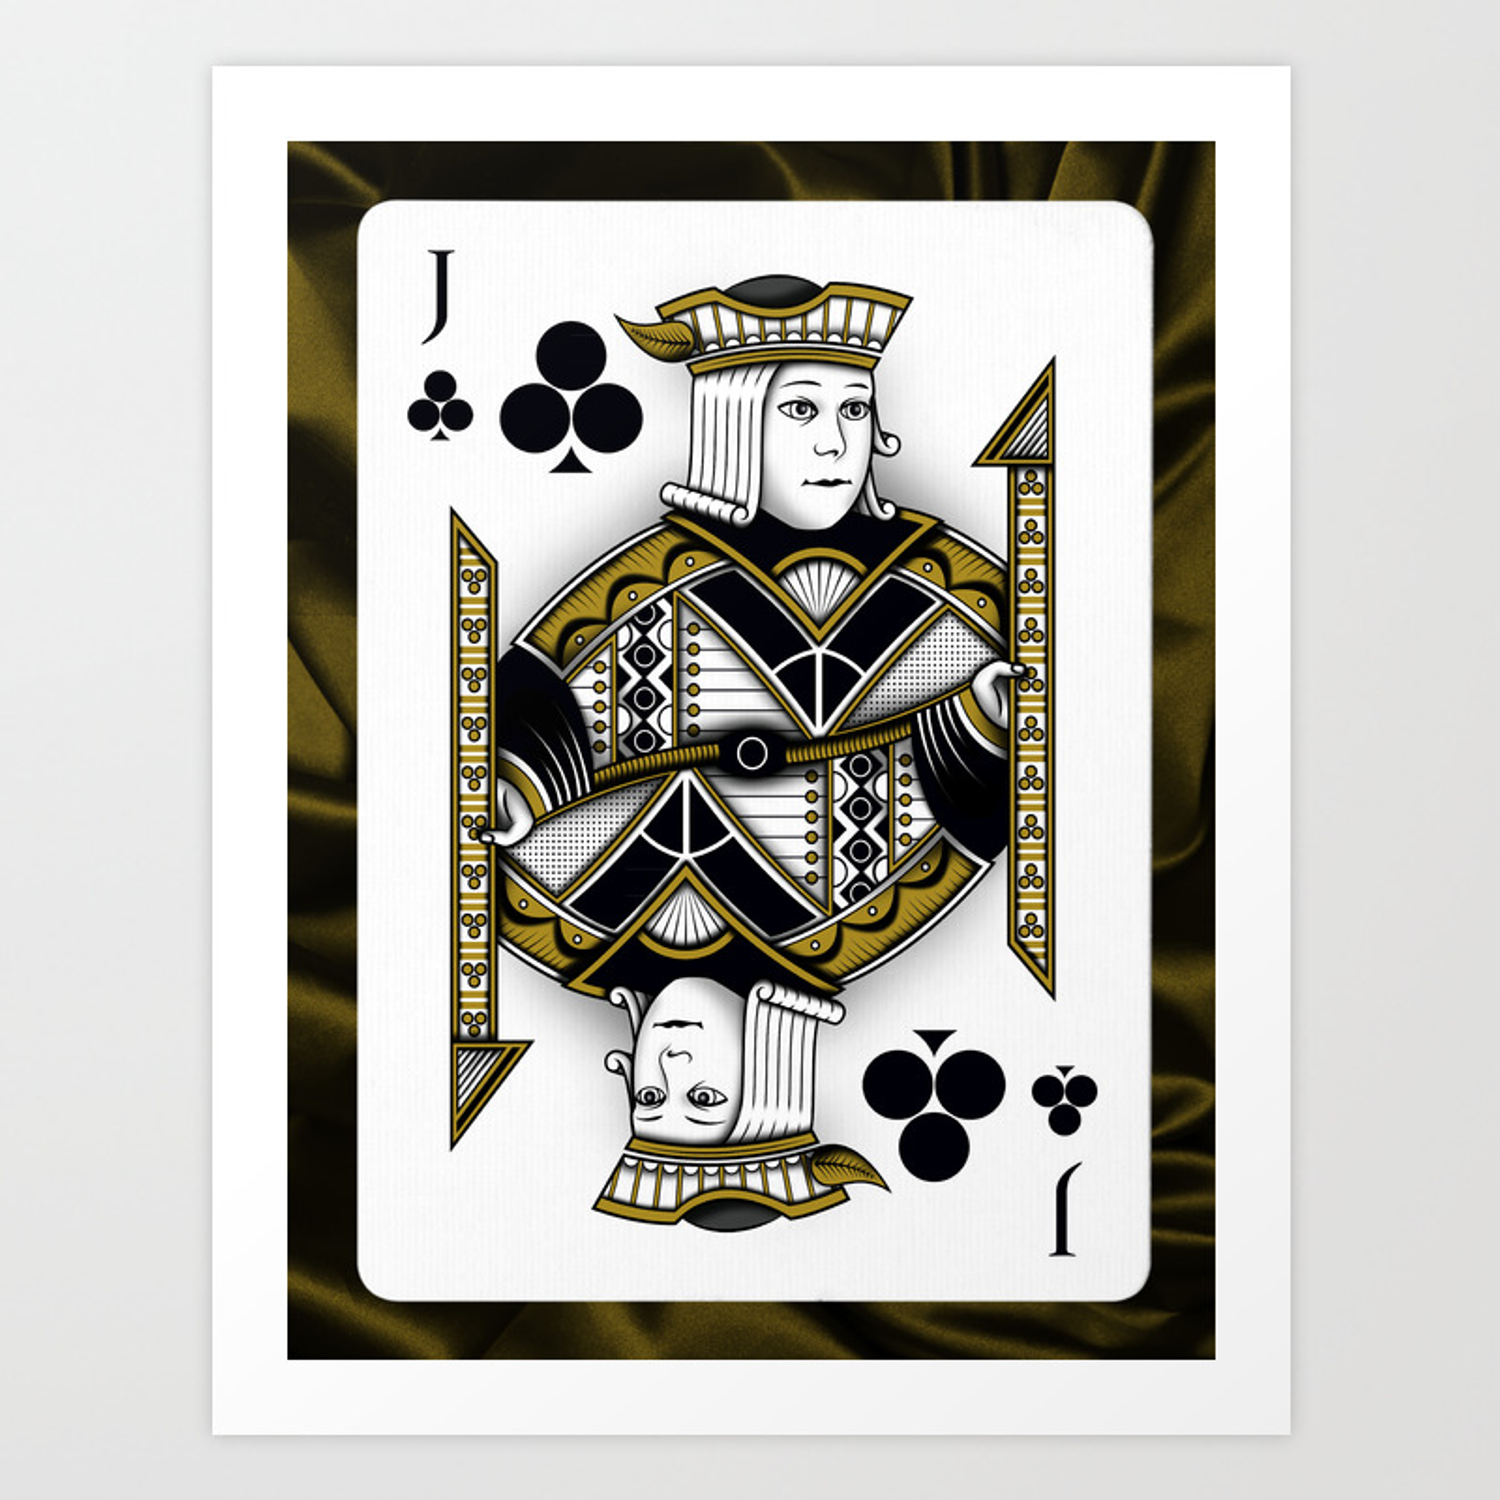jack of clubs: (359, 201, 1141, 1301)
